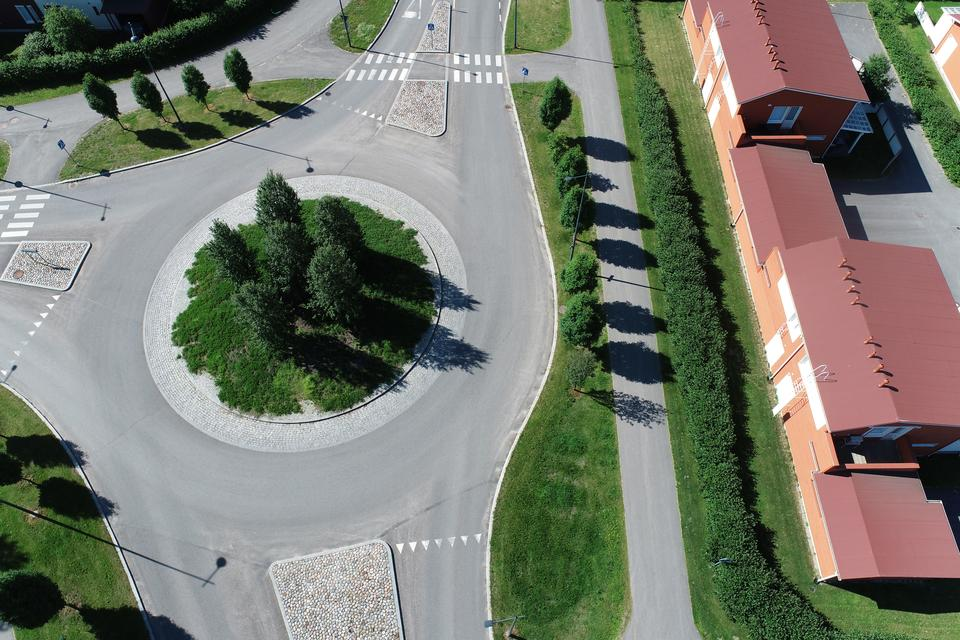intersection: (301, 21, 623, 92), (0, 79, 75, 382)
roundabout: (85, 148, 567, 598)
